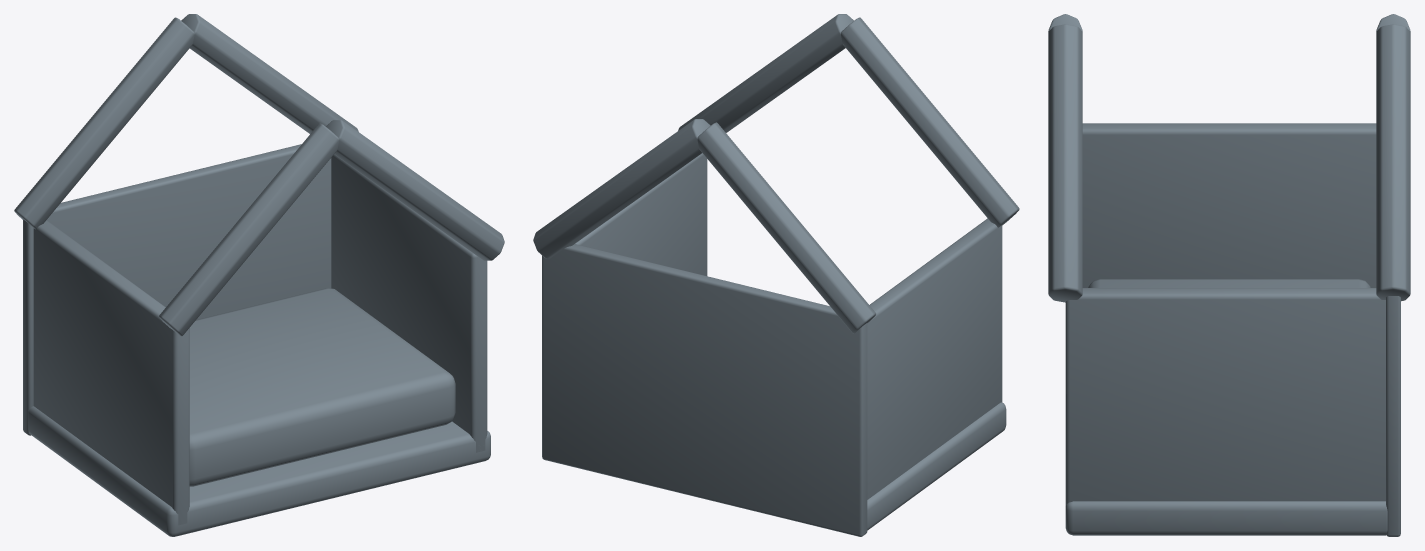
The model's file is dog-house-bed.glb.
3 views of the same model, side by side, from view 1: azimuth 30°, elevation 25°; view 2: azimuth 150°, elevation 25°; view 3: azimuth 270°, elevation 25° (orthographic). The views are drawn at different scales.
Parts seen in each view (by area): view 1: dog-house-bed; view 2: dog-house-bed; view 3: dog-house-bed.
Part boxes in pixels (bbox=[...]): dog-house-bed: bbox=[14, 14, 504, 536]; dog-house-bed: bbox=[533, 14, 1019, 536]; dog-house-bed: bbox=[1048, 14, 1410, 536].
Bounding box in the file's own units: 0.8 × 0.85 × 0.65.
